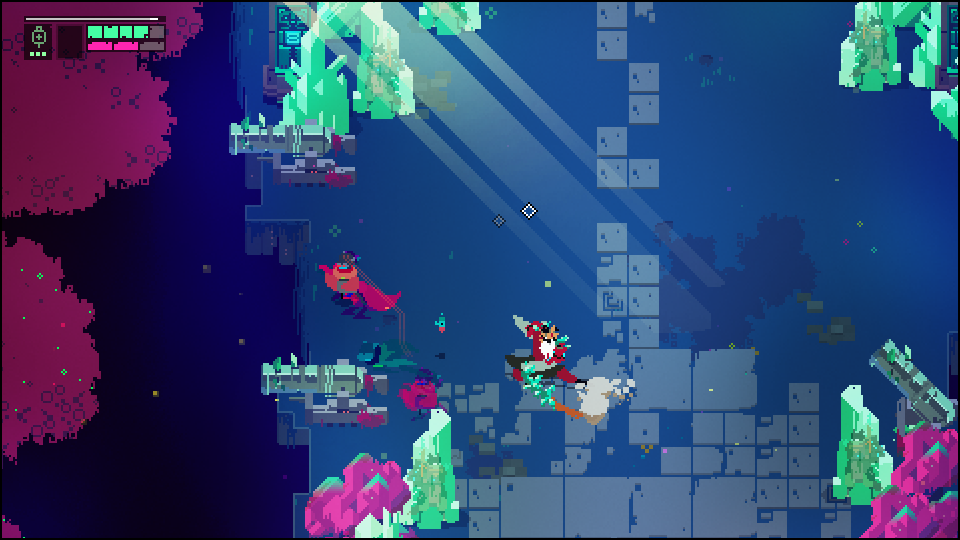hanged_man: (513, 321, 605, 430)
player: (319, 263, 358, 299)
